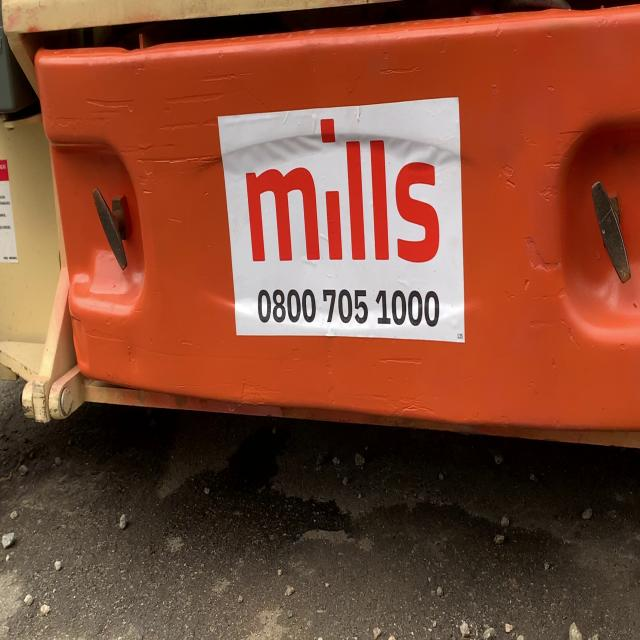Adesivos: (216, 94, 467, 348)
